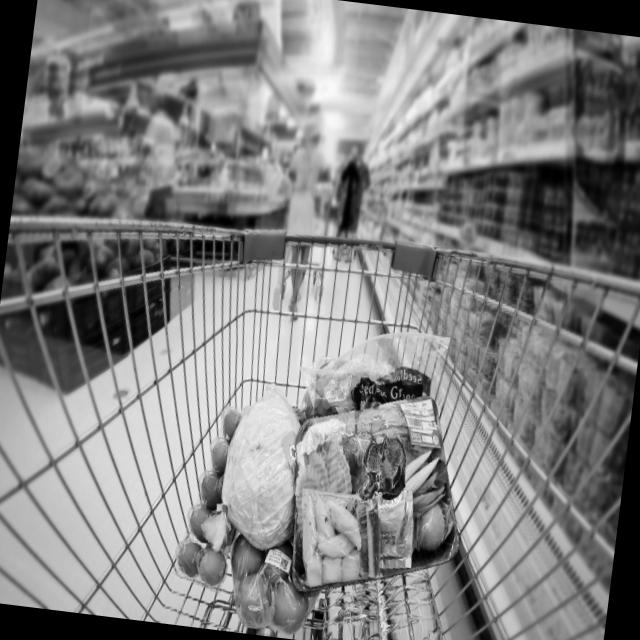apple: (220, 538, 314, 636)
bap cai: (217, 389, 316, 557)
egg: (167, 396, 253, 598)
grape: (346, 343, 446, 408)
